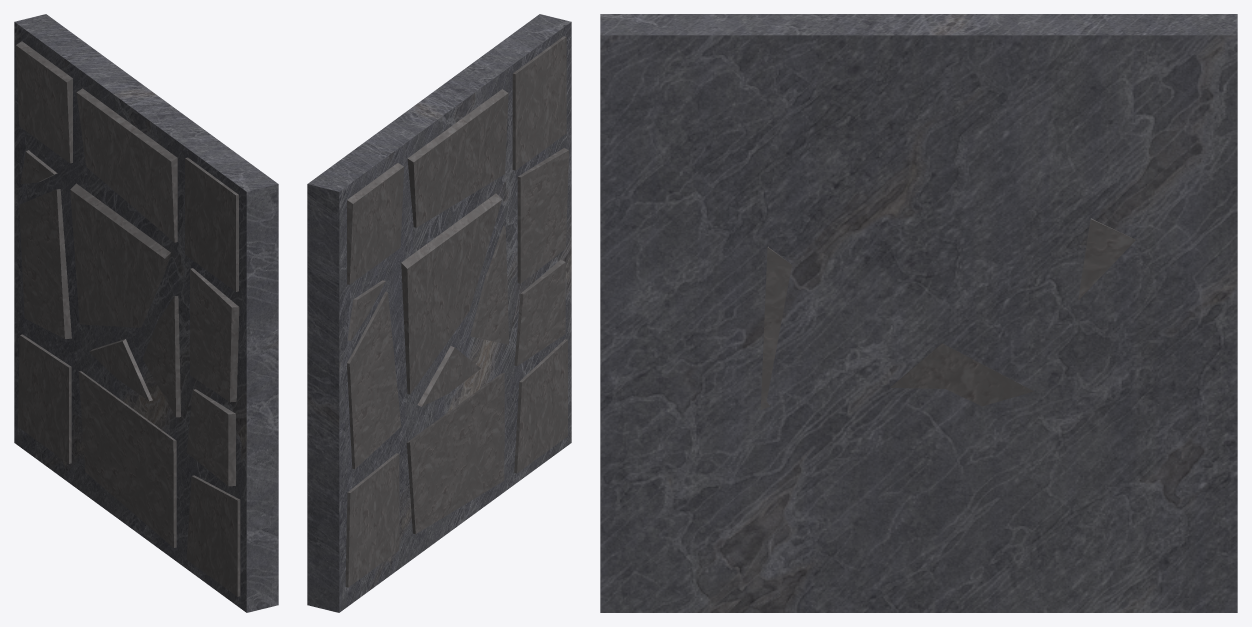
Rendered from StraightWall_Mesh.fbx.
The picture shows the model from 3 angles, left to right: view 1: azimuth 30°, elevation 25°; view 2: azimuth 150°, elevation 25°; view 3: azimuth 270°, elevation 25°; orthographic projection. The views are drawn at different scales.
Parts seen in each view (by area): view 1: pCube1, pCube7, pCube10, pCube6, pCube13, pCube2, pCube5, pCube9, pCube3, pCube4, pCube8, pCube11 (+2 smaller); view 2: pCube1, pCube7, pCube10, pCube6, pCube13, pCube2, pCube9, pCube5, pCube3, pCube4, pCube8, pCube11 (+2 smaller); view 3: pCube1, pCube12, pCube11, pCube13.
Part boxes in pixels (left/top/right/bottom): pCube1: left=14, top=14, right=278, bottom=612; pCube7: left=78, top=371, right=176, bottom=547; pCube10: left=70, top=183, right=170, bottom=327; pCube6: left=76, top=88, right=177, bottom=242; pCube13: left=19, top=189, right=71, bottom=338; pCube2: left=185, top=157, right=238, bottom=291; pCube5: left=18, top=334, right=71, bottom=463; pCube9: left=190, top=268, right=239, bottom=402; pCube3: left=186, top=475, right=240, bottom=596; pCube4: left=16, top=41, right=72, bottom=163; pCube8: left=186, top=389, right=235, bottom=486; pCube11: left=142, top=296, right=180, bottom=417; pCube1: left=307, top=14, right=571, bottom=612; pCube7: left=406, top=373, right=504, bottom=534; pCube10: left=401, top=193, right=501, bottom=394; pCube6: left=407, top=89, right=508, bottom=227; pCube13: left=347, top=291, right=401, bottom=468; pCube2: left=512, top=36, right=566, bottom=170; pCube9: left=517, top=148, right=568, bottom=283; pCube5: left=345, top=453, right=399, bottom=587; pCube3: left=514, top=339, right=567, bottom=473; pCube4: left=347, top=163, right=403, bottom=284; pCube8: left=514, top=259, right=565, bottom=365; pCube11: left=470, top=226, right=508, bottom=344; pCube1: left=600, top=14, right=1237, bottom=612; pCube12: left=890, top=343, right=1033, bottom=406; pCube11: left=760, top=246, right=791, bottom=409; pCube13: left=1078, top=218, right=1135, bottom=300.
Size of the model in its own units: 9.97 by 100 by 100.
